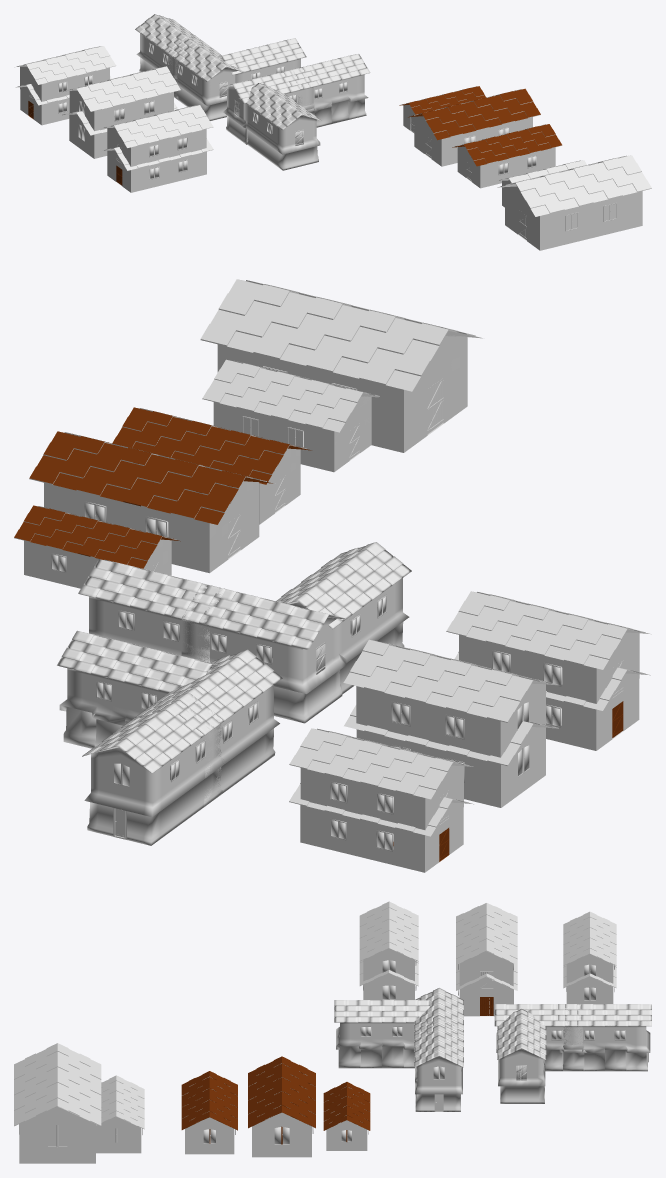
The model's file is newsevvalsvillage_last.fbx.
3 renders of one model, top to bottom at view 1: azimuth 30°, elevation 25°; view 2: azimuth 150°, elevation 25°; view 3: azimuth 270°, elevation 25°, orthographic. The views are drawn at different scales.
Parts seen in each view (by area): view 1: woodhouse9, woodhouse6, woodhouse1, woodhouse3, woodhouse2, woodhouse7, woodhouse8, woodhouse5, woodhouse4; view 2: woodhouse6, woodhouse1, woodhouse9, woodhouse2, woodhouse8, woodhouse7, woodhouse3, woodhouse5, woodhouse4; view 3: woodhouse6, woodhouse1, woodhouse9, woodhouse2, woodhouse7, woodhouse3, woodhouse8, woodhouse5, woodhouse4.
Part boxes in pixels (x1,y1,x2,y2): woodhouse9: (221,54,370,170); woodhouse6: (496,155,651,250); woodhouse1: (135,14,306,120); woodhouse3: (101,105,213,192); woodhouse2: (62,66,180,158); woodhouse7: (408,88,540,166); woodhouse8: (14,46,115,125); woodhouse5: (452,124,562,188); woodhouse4: (399,86,485,133); woodhouse6: (200,279,482,472); woodhouse1: (57,630,282,845); woodhouse9: (78,542,411,723); woodhouse2: (343,639,558,807); woodhouse8: (289,728,473,872); woodhouse7: (29,431,272,573); woodhouse3: (446,591,651,750); woodhouse5: (112,407,311,524); woodhouse4: (14,505,180,588); woodhouse6: (14,1043,144,1163); woodhouse1: (494,1004,651,1103); woodhouse9: (334,988,463,1111); woodhouse2: (456,903,517,1016); woodhouse7: (248,1056,315,1157); woodhouse3: (359,901,418,1000); woodhouse8: (563,911,616,1004); woodhouse5: (181,1071,237,1154); woodhouse4: (323,1082,370,1150).
Bounding box in the file's own units: 7922 × 1472 × 10919.
